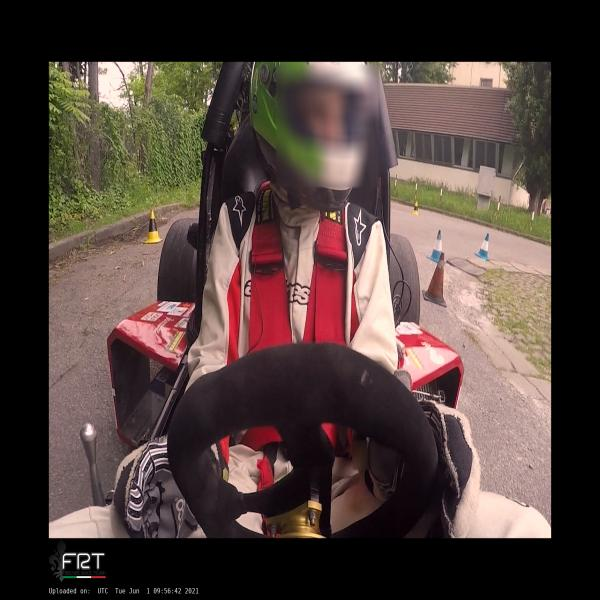blue_cone: (427, 230, 442, 263), (474, 233, 489, 261)
unknown_cone: (422, 253, 446, 307)
yellow_cone: (142, 209, 164, 243), (412, 201, 418, 215)
